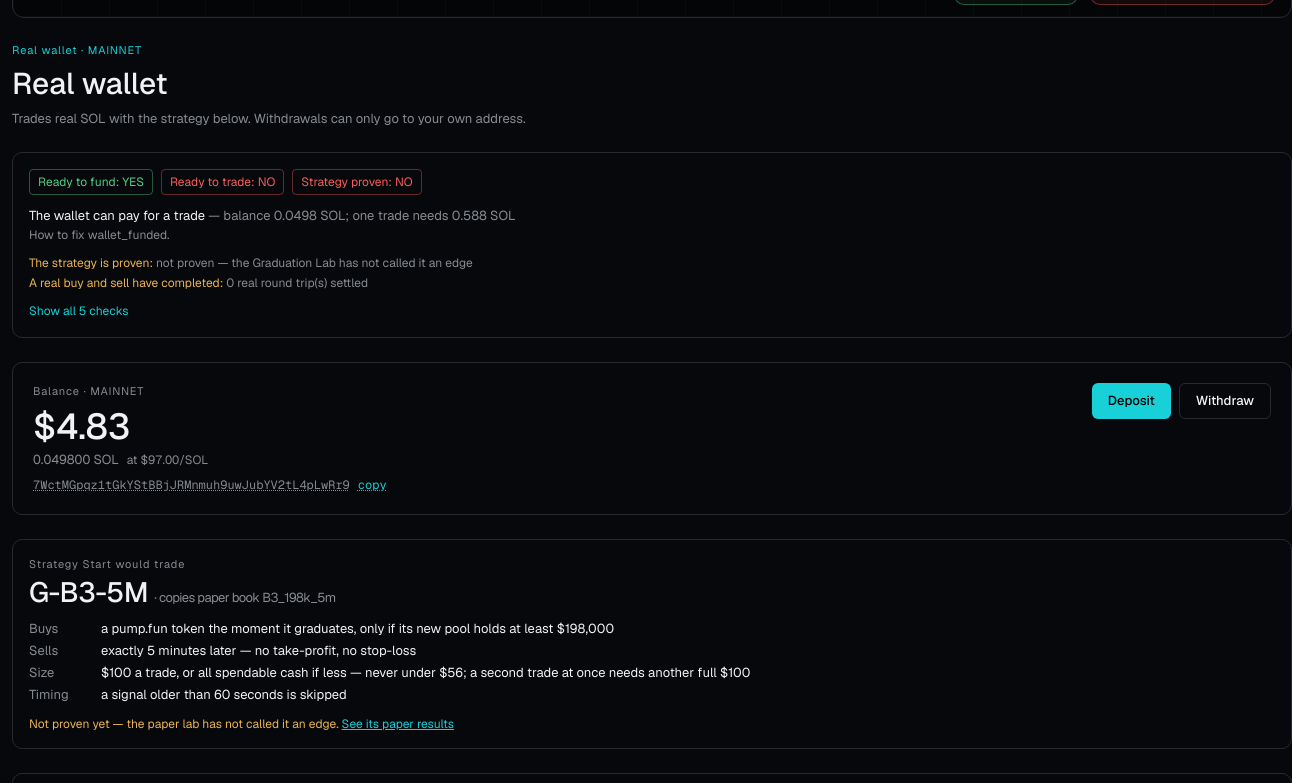
RealWalletPage readiness › tells the depositor how much a trade needs
(page scrolled)
Expected: the button "7WctMGpqz1tGkYStBBjJRMnmuh9uwJubYV2tL4pLwRr9" is shown, [33,476,387,492]
Click the button "Deposit".
click(1131, 400)  # box [1092,382,1171,418]
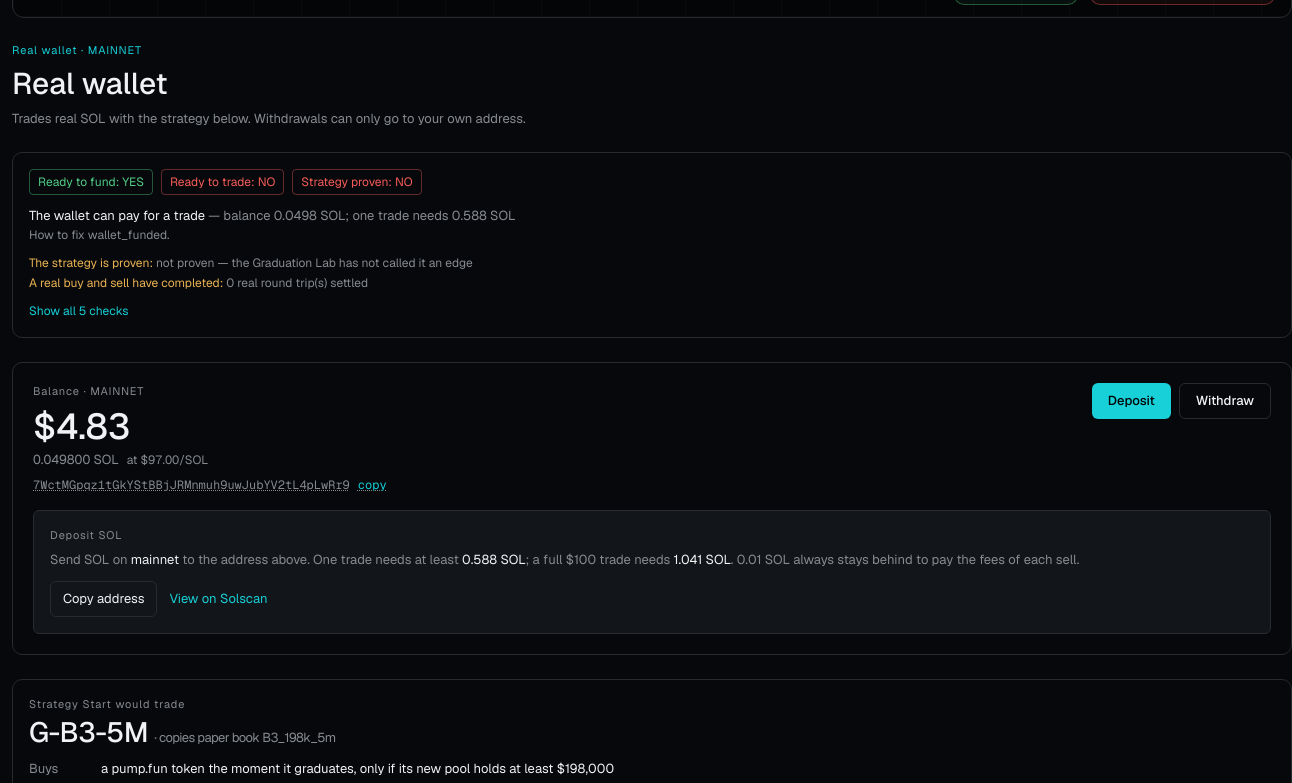
Expected: the text "Deposit SOL" shows "One trade needs at least 0.588 SOL", [33,510,1271,634]
Expected: the text "Deposit SOL" shows "a full $100 trade needs 1.041 SOL", [33,510,1271,634]
Expected: the button "Copy address" is shown, [50,581,158,617]
